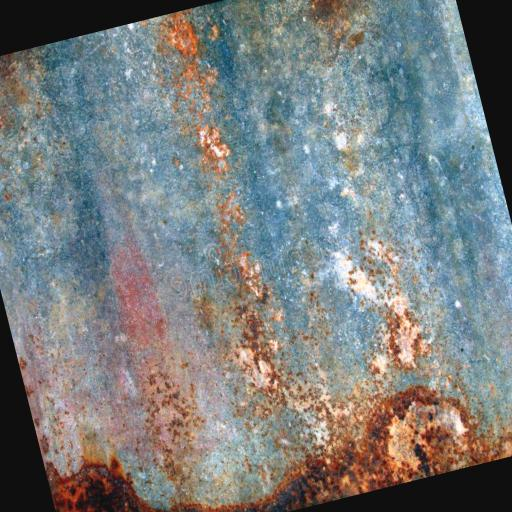segmentation: (59, 379, 512, 512), (53, 386, 512, 512), (112, 241, 204, 479), (216, 193, 283, 397), (334, 237, 431, 369), (157, 12, 231, 185), (215, 186, 269, 304), (0, 52, 29, 133), (292, 395, 329, 444), (311, 0, 352, 34), (198, 125, 227, 161), (44, 461, 61, 500), (197, 298, 216, 327)
